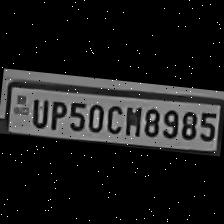0: (84, 100, 106, 134)
5: (64, 97, 88, 133), (196, 108, 218, 144)
8: (140, 102, 162, 138), (176, 106, 198, 142)
9: (158, 104, 181, 140)
C: (103, 100, 124, 136)
M: (120, 101, 142, 137)
P: (46, 97, 68, 132)
U: (25, 93, 50, 129)
